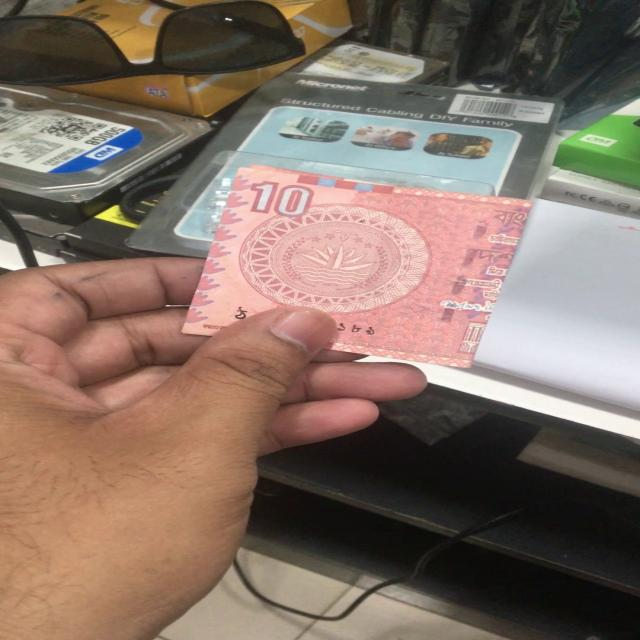Taka: (210, 165, 526, 359)
